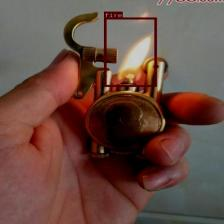fire: (104, 18, 156, 86)
